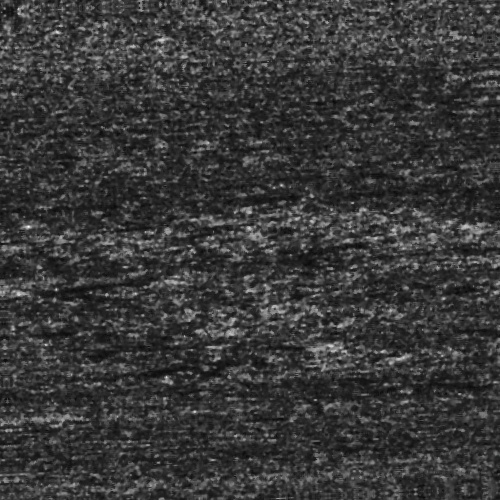object: (135, 271, 188, 278)
shadow: (60, 271, 162, 278)
